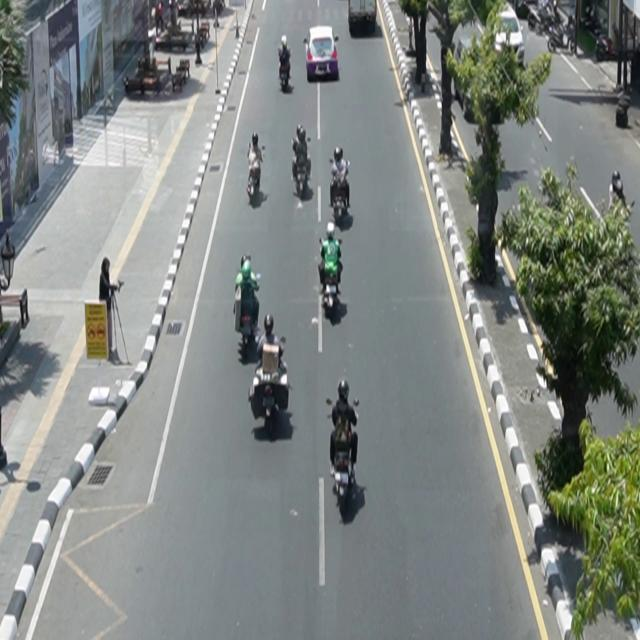car: (304, 26, 340, 83)
